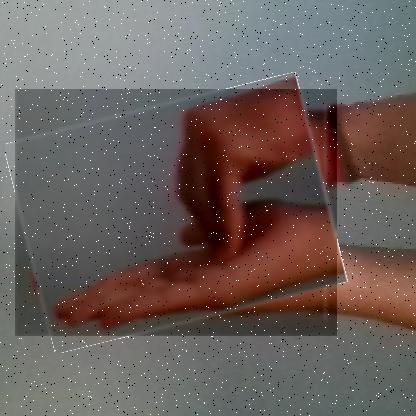Z: (14, 89, 337, 337)
